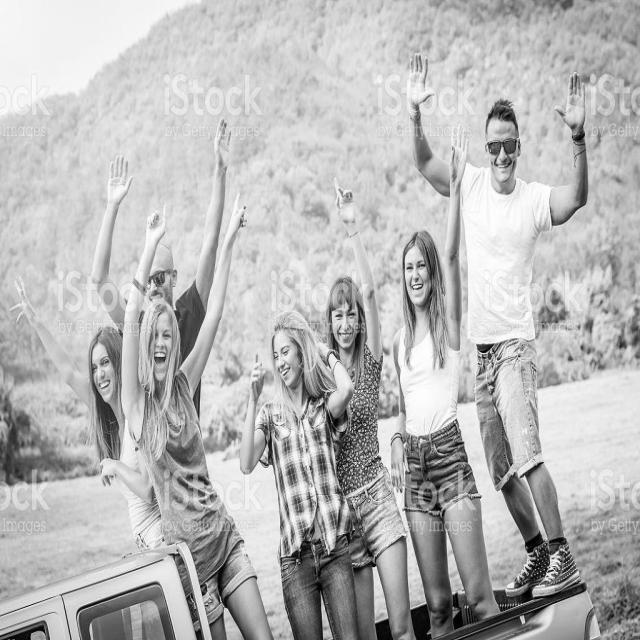person: (416, 82, 611, 631), (75, 176, 279, 634), (385, 223, 516, 640), (240, 307, 360, 637), (35, 303, 153, 631), (318, 282, 424, 640), (118, 209, 204, 307)
